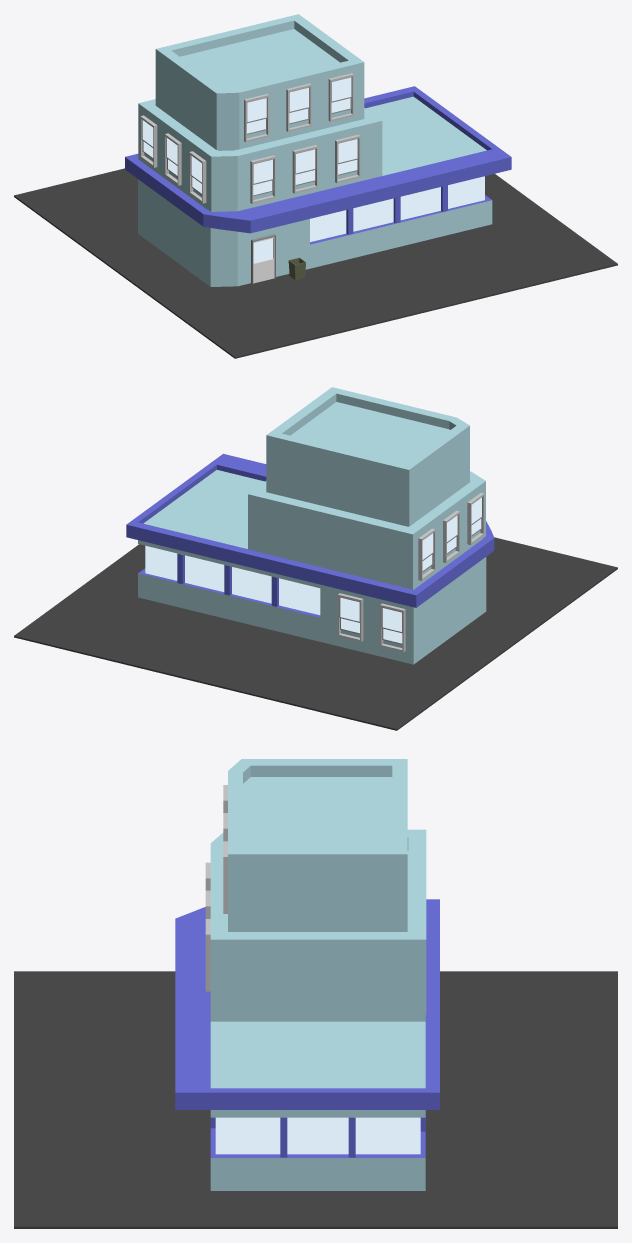
File: gedung6.glb
The picture shows the model from 3 angles, top to bottom: view 1: azimuth 30°, elevation 25°; view 2: azimuth 150°, elevation 25°; view 3: azimuth 270°, elevation 25°; orthographic projection. The views are drawn at different scales.
Visible parts, largest first — view 1: Plane.006, Plane, Cube.002, Plane.001, Cube, Plane.002, Plane.007, Plane.003, Plane.005; view 2: Plane.006, Plane, Cube.002, Cube, Plane.001, Plane.003, Plane.004; view 3: Plane.006, Plane, Cube.002, Cube, Plane.001, Plane.002, Plane.007.
Boxes of the visible parts, box(x1,y1,x2,y2) form: Plane.006: box(14, 168, 617, 358); Plane: box(138, 96, 492, 286); Cube.002: box(155, 14, 364, 150); Plane.001: box(125, 86, 511, 233); Cube: box(138, 99, 382, 211); Plane.002: box(250, 134, 360, 203); Plane.007: box(244, 73, 353, 142); Plane.003: box(140, 115, 206, 203); Plane.005: box(251, 234, 275, 284); Plane.006: box(14, 537, 617, 730); Plane: box(138, 470, 486, 664); Cube.002: box(266, 387, 469, 526); Cube: box(248, 471, 485, 589); Plane.001: box(126, 453, 494, 607); Plane.003: box(418, 493, 484, 580); Plane.004: box(337, 593, 405, 652); Plane.006: box(14, 971, 617, 1228); Plane: box(210, 1021, 425, 1190); Cube.002: box(228, 759, 407, 931); Cube: box(210, 829, 426, 1021); Plane.001: box(175, 899, 439, 1109); Plane.002: box(205, 862, 210, 991); Plane.007: box(223, 785, 227, 913).
Size of the model in its own units: 15.41 by 7.26 by 15.41.
